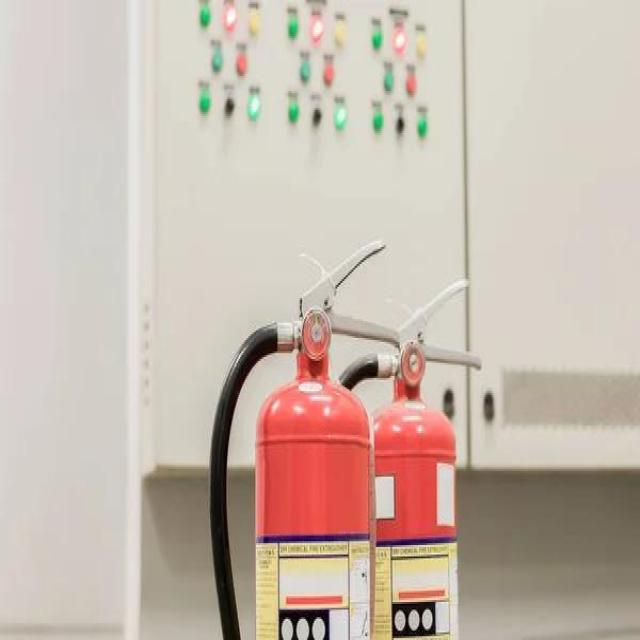fire_extinguisher: (204, 234, 403, 638), (306, 274, 483, 638)
